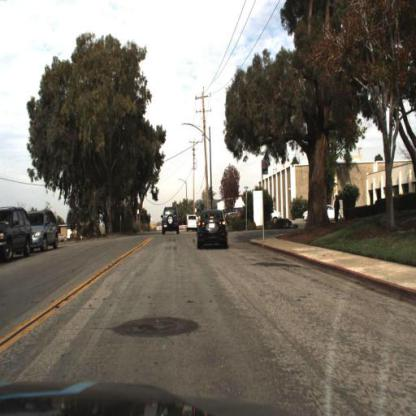car: (1, 205, 33, 264), (195, 207, 234, 254), (30, 208, 61, 252), (197, 209, 229, 249), (160, 201, 184, 238), (303, 201, 341, 224), (184, 211, 201, 236), (269, 208, 284, 229), (301, 205, 313, 226)
